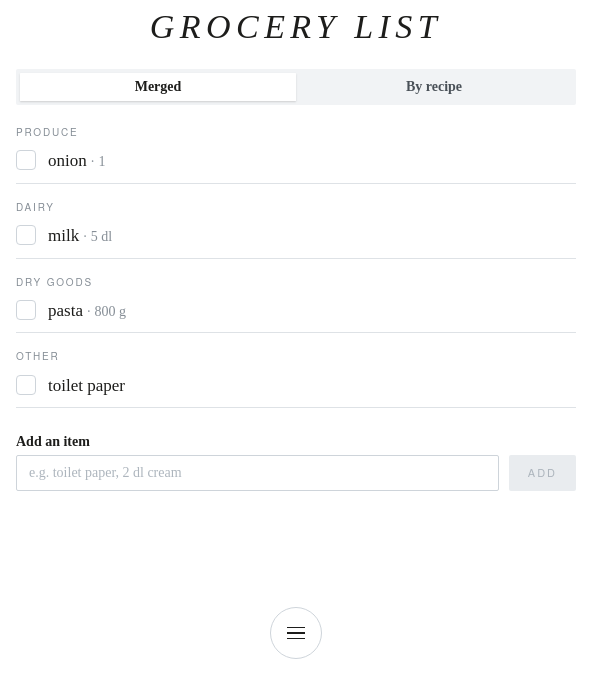
Test: a line added by hand says so in its sources
The width and height of the screenshot is (597, 676).
Click the button "toilet paper" at coordinates (86, 385), box [48, 373, 576, 399]
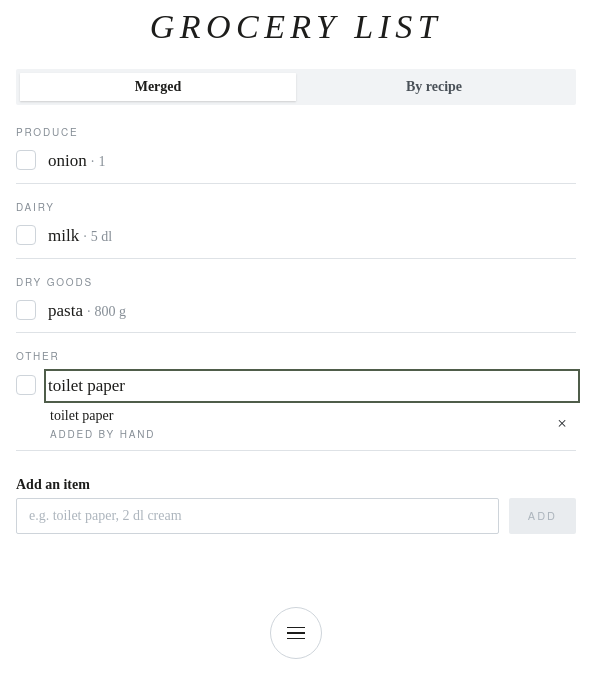
Expected: the text "Added by hand" is shown, [50, 427, 155, 442]
